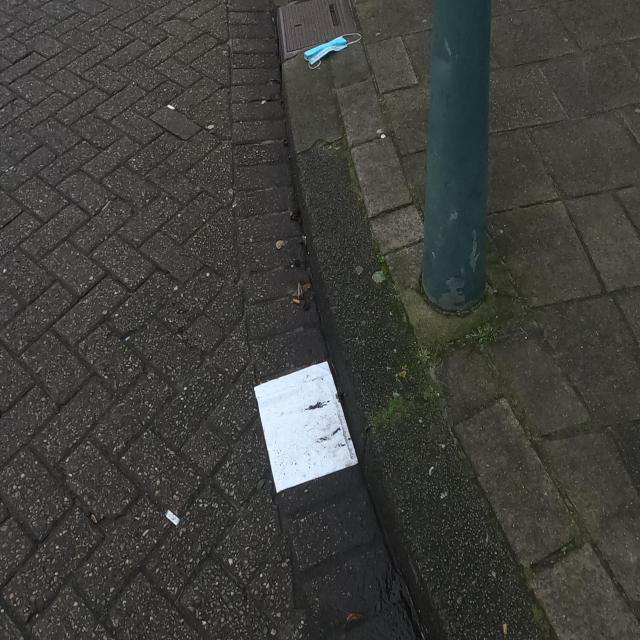Mask: (303, 31, 364, 70)
Paper: (253, 360, 359, 494)
